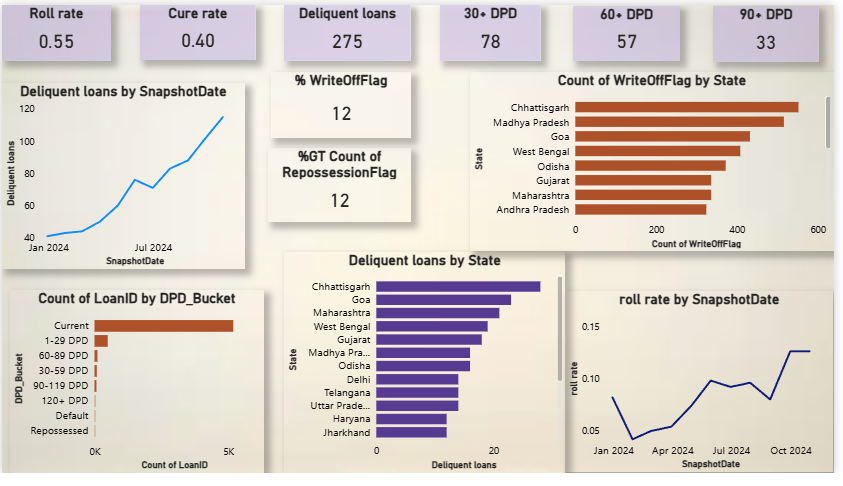

The page's visual inventory and layout, read from the dashboard file:
{"tool":"powerbi","page":{"name":"Delinquency dashboard","canvas":[1280,720],"ordinal":2},"visuals":[{"type":"kpi","title":"Deliquent loans ","fields":{"Indicator":["dpd.Deliquent loans"],"TrendLine":["dpd.PoolID"]},"box":[433.8,0,195.4,86.2],"z":0},{"type":"kpi","title":"30+ DPD ","fields":{"Indicator":["dpd.30+ DPD"],"TrendLine":["dpd.PoolID"]},"box":[673.8,0,155.4,86.2],"z":1000},{"type":"kpi","title":"60+ DPD ","fields":{"Indicator":["dpd.60+ DPD"],"TrendLine":["dpd.PoolID"]},"box":[878.5,1.5,164.6,84.6],"z":2000},{"type":"kpi","title":"90+ DPD ","fields":{"Indicator":["dpd.90+ DPD"],"TrendLine":["dpd.PoolID"]},"box":[1093.8,1.5,163.1,86.2],"z":3000},{"type":"kpi","title":"Cure rate ","fields":{"Indicator":["dpd.cure rate"],"TrendLine":["dpd.PoolID"]},"box":[212.3,0,178.5,84.6],"z":4000},{"type":"kpi","title":"Roll rate ","fields":{"Indicator":["dpd.roll rate"],"TrendLine":["dpd.PoolID"]},"box":[0,0,167.7,86.2],"z":5000},{"type":"lineChart","fields":{"Y":["dpd.Deliquent loans"],"Category":["dpd.SnapshotDate"]},"box":[0,120,373.8,286.2],"z":6000},{"type":"barChart","fields":{"Category":["dpd.DPD_Bucket"],"Y":["CountNonNull(dpd.LoanID)"]},"box":[12.3,438.5,390.8,281.5],"z":7000},{"type":"clusteredBarChart","fields":{"Category":["loans.State"],"Y":["dpd.Deliquent loans"]},"box":[433.4,380.2,433.4,339.8],"z":8000},{"type":"lineChart","fields":{"Category":["dpd.SnapshotDate"],"Y":["dpd.rollrate"]},"box":[866.9,440.6,413.3,279.4],"z":9000},{"type":"kpi","title":"% WriteOffFlag ","fields":{"Indicator":["CountNonNull(dpd.WriteOffFlag)"],"TrendLine":["loans.LoanID"]},"box":[413.3,103.7,216,102.2],"z":10000},{"type":"kpi","title":"%GT Count of RepossessionFlag ","fields":{"Indicator":["CountNonNull(dpd.RepossessionFlag)"],"TrendLine":["loans.LoanID"]},"box":[409,220.3,220.3,113.8],"z":11000},{"type":"barChart","fields":{"Category":["loans.State"],"Y":["CountNonNull(dpd.WriteOffFlag)"]},"box":[720,103.7,560.2,276.5],"z":12000}]}

Visuals, with their boxes in screenshot pixels (x1, y1, x2, y2), scaled from the page's 1280x720 canvas onto the 843x486 screenshot:
"Deliquent loans " kpi: locate(286, 0, 414, 58)
"30+ DPD " kpi: locate(444, 0, 546, 58)
"60+ DPD " kpi: locate(579, 1, 687, 58)
"90+ DPD " kpi: locate(720, 1, 828, 59)
"Cure rate " kpi: locate(140, 0, 257, 57)
"Roll rate " kpi: locate(0, 0, 110, 58)
lineChart - dpd.Deliquent loans x dpd.SnapshotDate: locate(0, 81, 246, 274)
barChart - dpd.DPD_Bucket x CountNonNull(dpd.LoanID): locate(8, 296, 265, 485)
clusteredBarChart - loans.State x dpd.Deliquent loans: locate(285, 257, 571, 485)
lineChart - dpd.SnapshotDate x dpd.rollrate: locate(571, 297, 842, 485)
"% WriteOffFlag " kpi: locate(272, 70, 414, 139)
"%GT Count of RepossessionFlag " kpi: locate(269, 149, 414, 226)
barChart - loans.State x CountNonNull(dpd.WriteOffFlag): locate(474, 70, 842, 257)
